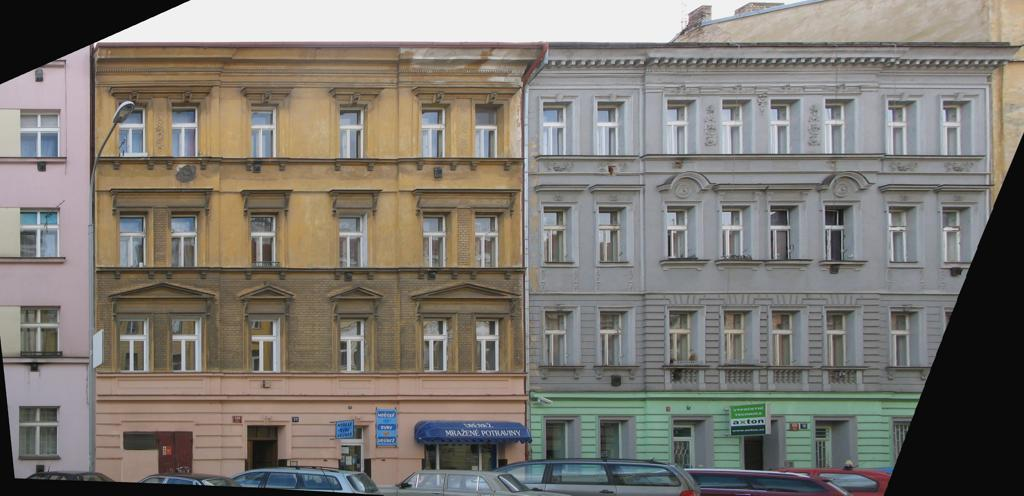window: (425, 440, 506, 487), (22, 307, 61, 357), (21, 407, 59, 458), (21, 110, 59, 157), (21, 210, 59, 257), (421, 318, 453, 373), (118, 318, 150, 372), (338, 318, 370, 372), (171, 317, 202, 372), (474, 318, 505, 373), (674, 421, 706, 474), (250, 318, 281, 372), (251, 212, 280, 268), (339, 213, 368, 269), (475, 212, 504, 268), (546, 421, 576, 475), (600, 420, 630, 474), (171, 212, 200, 267), (423, 211, 452, 266), (889, 101, 918, 156), (667, 100, 696, 154), (827, 99, 856, 153), (944, 101, 973, 155), (666, 205, 695, 259), (722, 207, 751, 261), (771, 205, 800, 259), (826, 206, 855, 260), (891, 207, 920, 261), (944, 208, 973, 262), (422, 105, 451, 158), (544, 102, 573, 155), (597, 102, 626, 155), (772, 100, 800, 154), (724, 312, 752, 366), (118, 105, 147, 157), (171, 105, 200, 157), (251, 105, 280, 157), (340, 106, 369, 158), (475, 105, 504, 157), (723, 101, 751, 154), (544, 208, 572, 261), (121, 212, 147, 268), (601, 312, 627, 366), (671, 312, 697, 366), (773, 312, 799, 366), (601, 209, 627, 262), (548, 312, 574, 365), (894, 313, 920, 366), (828, 312, 853, 366)
